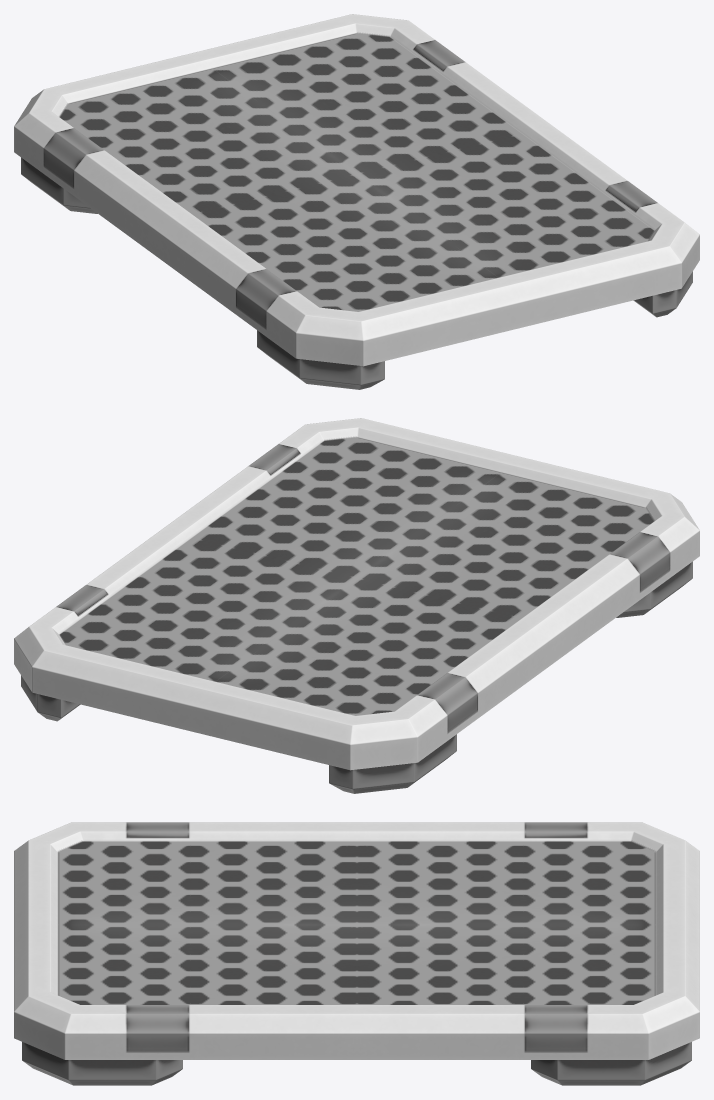
File: SM_LabBarrels01_5.FBX
3 renders of one model, top to bottom at view 1: azimuth 30°, elevation 25°; view 2: azimuth 150°, elevation 25°; view 3: azimuth 270°, elevation 25°, orthographic. The views are drawn at different scales.
Visible parts, largest first — view 1: SM_LabBarrels01_5; view 2: SM_LabBarrels01_5; view 3: SM_LabBarrels01_5.
Boxes of the visible parts, x1=… form: SM_LabBarrels01_5: x1=14, y1=14, x2=699, y2=389; SM_LabBarrels01_5: x1=14, y1=418, x2=699, y2=793; SM_LabBarrels01_5: x1=14, y1=822, x2=699, y2=1085.
Size of what is drawn, in the model's own units: 66.47 by 94.47 by 11.02.
